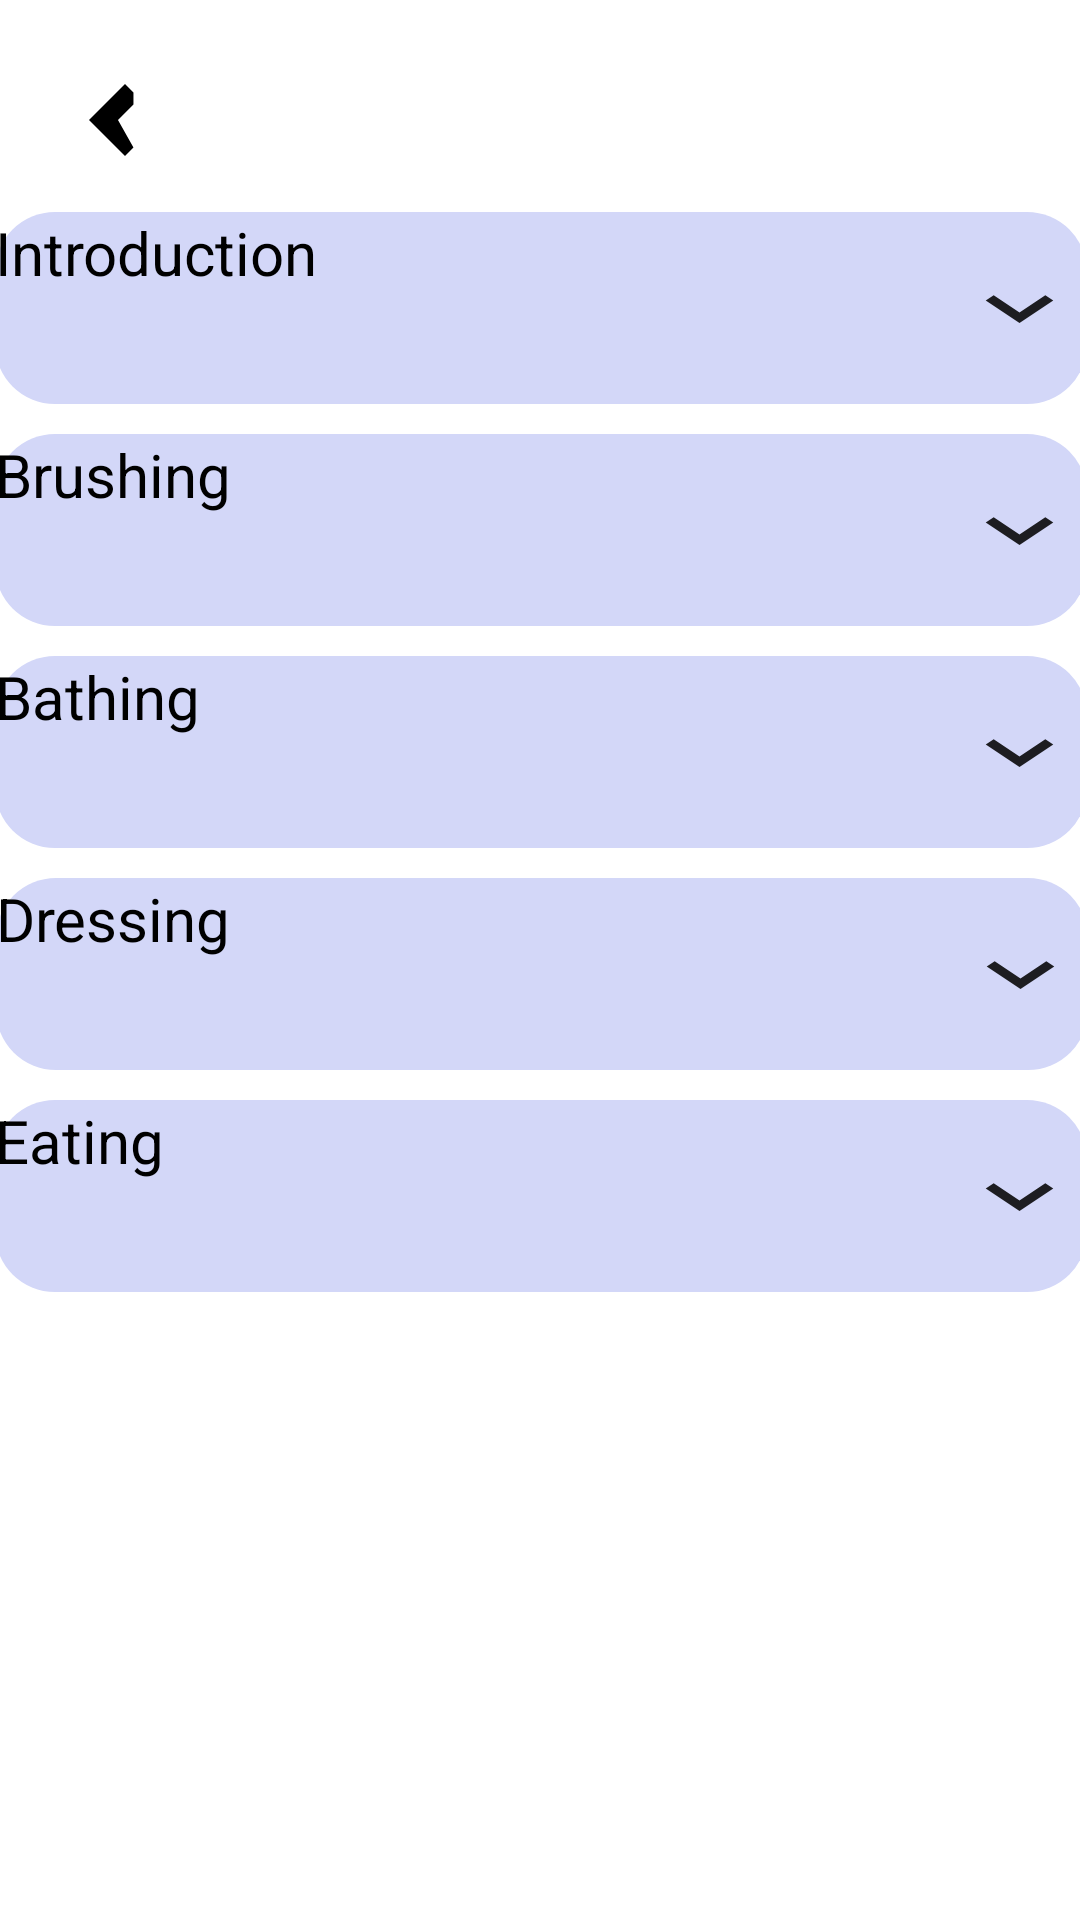

Icon click points for this 1080*1920 phone screenshot, format (x=x, y=y):
back: (x=111, y=120)
